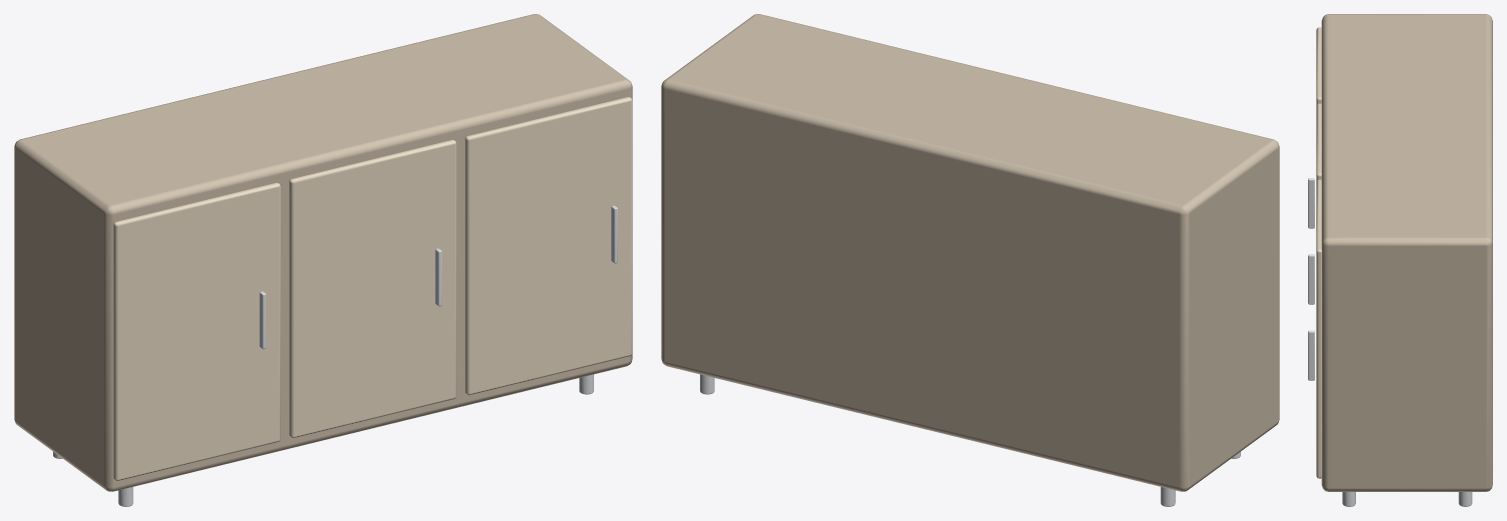
File: cabinet.glb
3 views of the same model, side by side, from view 1: azimuth 30°, elevation 25°; view 2: azimuth 150°, elevation 25°; view 3: azimuth 270°, elevation 25° (orthographic). The views are drawn at different scales.
Visible parts, largest first — view 1: cabinet; view 2: cabinet; view 3: cabinet.
Part boxes in pixels (x1,y1,x2,y2): cabinet: (14,14,632,506); cabinet: (661,14,1279,506); cabinet: (1308,14,1492,506).
Bounding box in the file's own units: 1.58 × 0.9 × 0.54.
